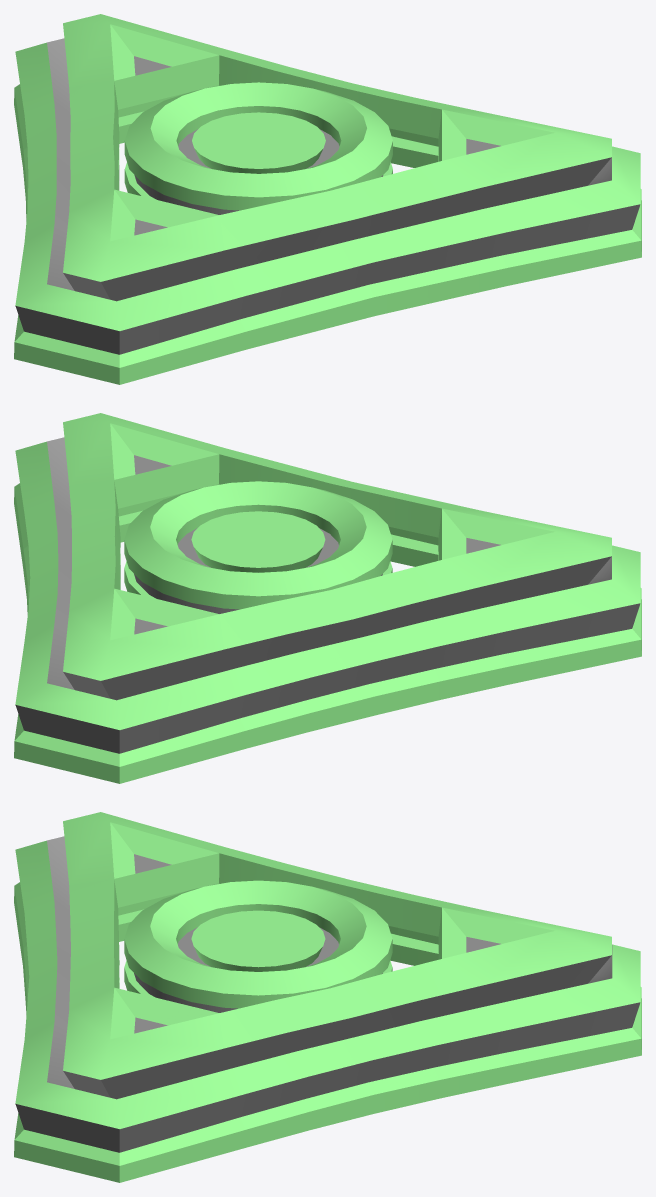
File: TPBack.FBX
The picture shows the model from 3 angles, top to bottom: view 1: azimuth 30°, elevation 25°; view 2: azimuth 150°, elevation 25°; view 3: azimuth 270°, elevation 25°; orthographic projection.
Parts seen in each view (by area): view 1: TP, TP_Energy; view 2: TP, TP_Energy; view 3: TP, TP_Energy.
Boxes of the visible parts, box(x1,y1,x2,y2) form: TP: box(14, 14, 641, 384); TP_Energy: box(15, 38, 640, 354); TP: box(14, 413, 641, 783); TP_Energy: box(15, 437, 640, 753); TP: box(14, 812, 641, 1182); TP_Energy: box(15, 836, 640, 1152).
Bounding box in the file's own units: 79.81 × 69.12 × 12.58.
